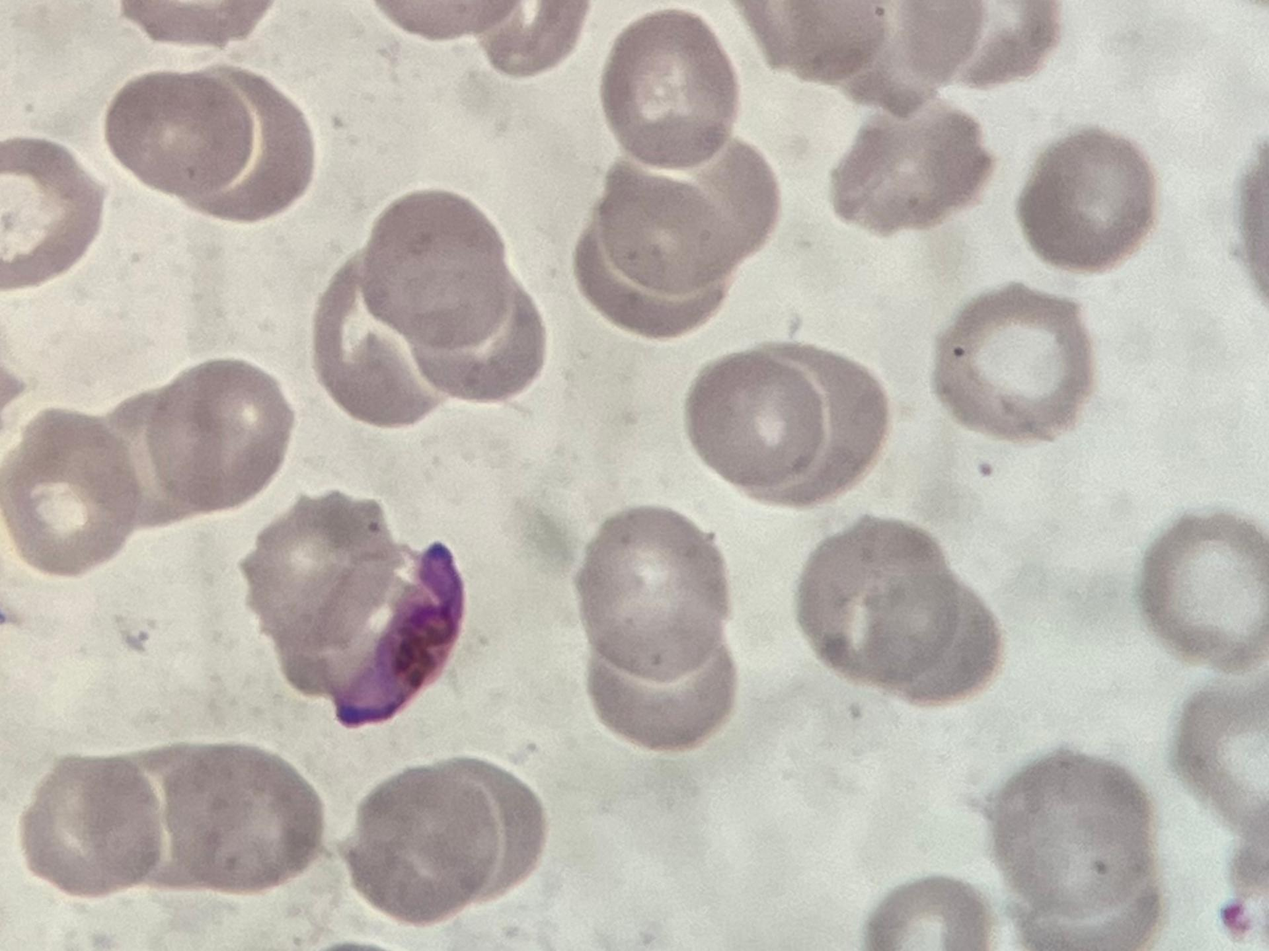Infected: (317, 536, 463, 728)
Uninfected: (595, 126, 779, 298), (312, 243, 467, 427), (800, 514, 956, 689), (337, 767, 501, 931), (990, 754, 1155, 916), (236, 489, 386, 664), (935, 283, 1095, 444), (578, 509, 727, 679), (169, 742, 327, 895), (742, 346, 890, 509), (364, 190, 514, 348), (165, 70, 319, 222), (0, 410, 136, 582), (402, 247, 549, 405), (590, 592, 734, 753), (145, 357, 293, 509), (600, 7, 732, 171), (18, 754, 164, 898), (1143, 508, 1269, 674), (1019, 128, 1159, 274), (829, 106, 993, 230), (575, 210, 731, 340), (102, 73, 255, 201), (416, 760, 547, 907), (682, 349, 824, 483), (866, 574, 1006, 707), (1165, 686, 1269, 843), (0, 137, 100, 287)
